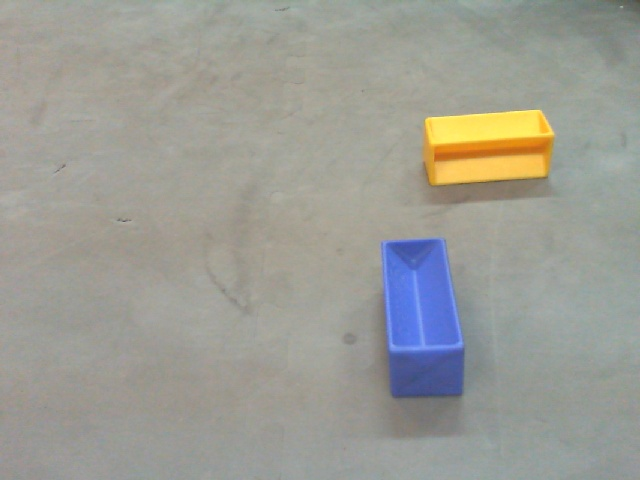BlueSample: (378, 238, 465, 401)
YellowSample: (421, 106, 570, 188)
